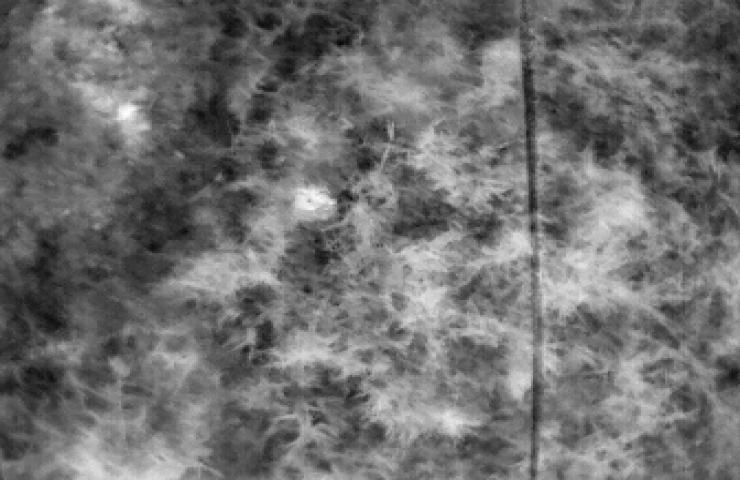landmines: (287, 182, 336, 220)
